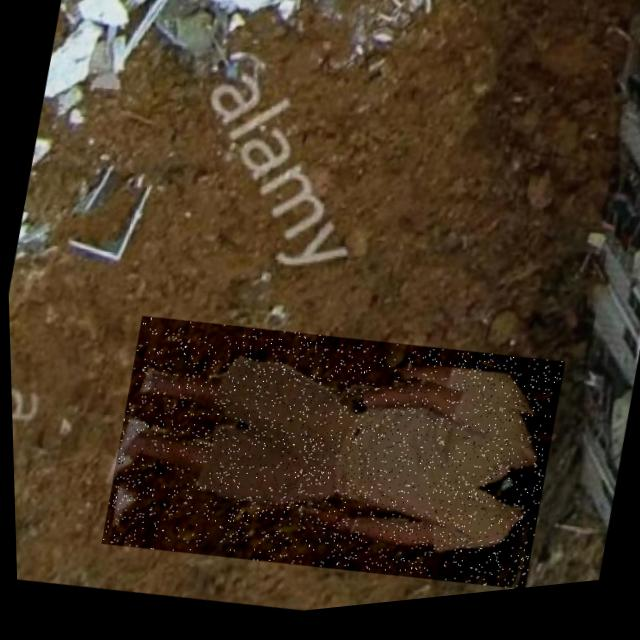Person in Rubble: (91, 284, 566, 633)
